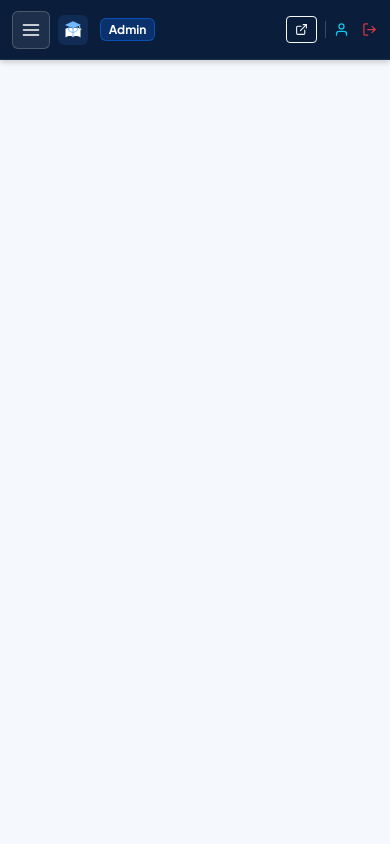
Test: Admin Panel Layout & Workflows › A & B: AdminLayout Component › toggles mobile drawer when hamburger button is clicked
Click the button named "toggle navigation menu" at point(31, 30), box top-left (12, 10), bottom-right (50, 48)
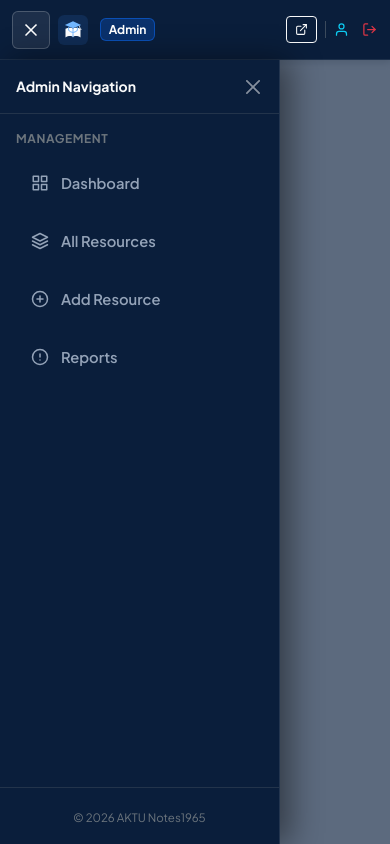
expect the button named "toggle navigation menu" is expanded: met, box top-left (12, 10), bottom-right (50, 48)
# Clicking close button closes drawer
Click the button named "close navigation menu" at point(252, 86), box top-left (242, 76), bottom-right (263, 97)
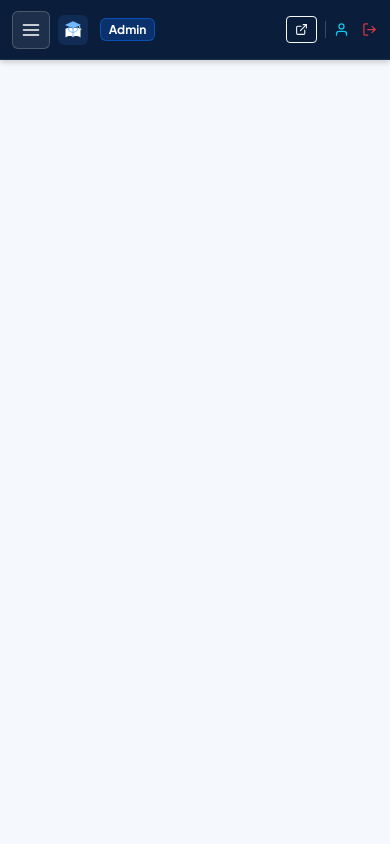
expect the button named "toggle navigation menu" is collapsed: met, box top-left (12, 10), bottom-right (50, 48)
